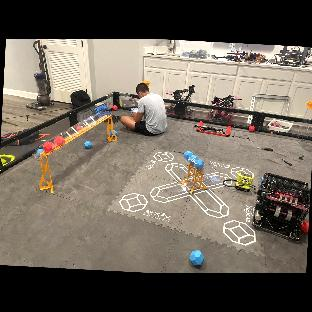2: (28, 109, 114, 164)
3: (247, 124, 257, 134)
V5_BLUE: (188, 249, 205, 267), (83, 139, 93, 149), (108, 129, 119, 138)
V5_RED: (302, 220, 309, 234), (75, 123, 83, 131), (112, 103, 118, 112)
blueingoal: (251, 171, 311, 243), (35, 146, 46, 157), (193, 160, 205, 168), (189, 156, 198, 163), (184, 152, 191, 159)
redingoal: (41, 140, 55, 153), (55, 133, 67, 146)
